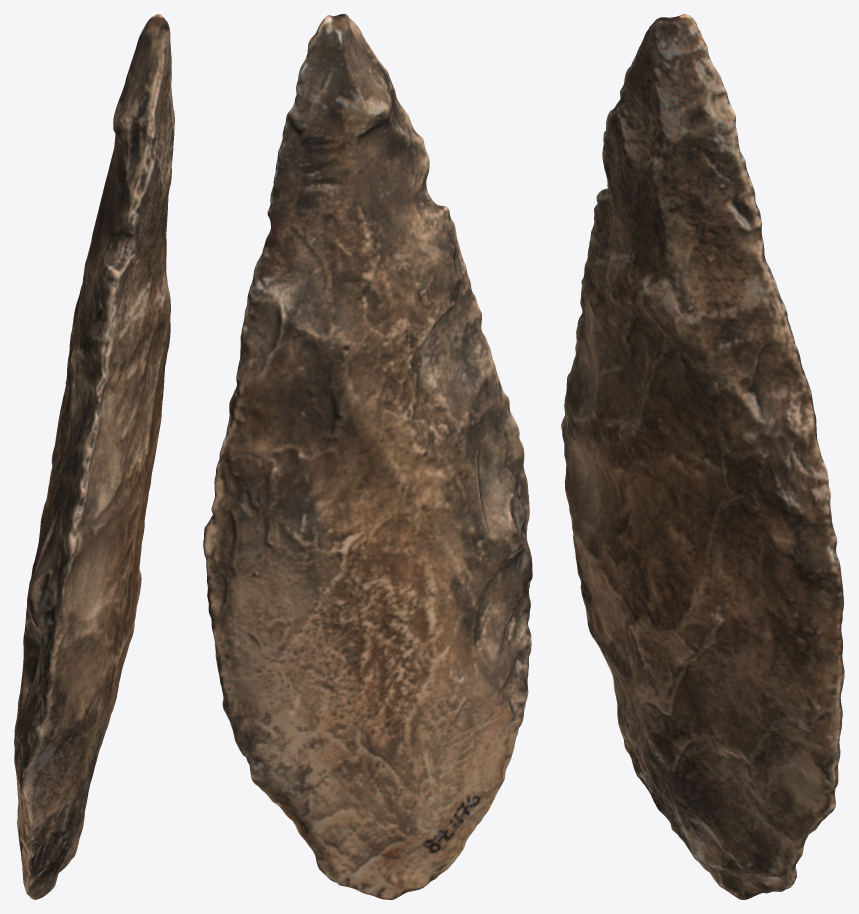
3 renders of one model, left to right at view 1: azimuth 30°, elevation 25°; view 2: azimuth 150°, elevation 25°; view 3: azimuth 270°, elevation 25°, orthographic. The views are drawn at different scales.
Visible parts, largest first — view 1: Node; view 2: Node; view 3: Node.
Boxes of the visible parts, box(x1,y1,x2,y2) form: Node: box(14, 14, 174, 899); Node: box(203, 14, 532, 899); Node: box(561, 14, 844, 899).
Size of the model in its own units: 25.98 by 95.28 by 26.32.
Materials: 1 (1 with a texture image).
